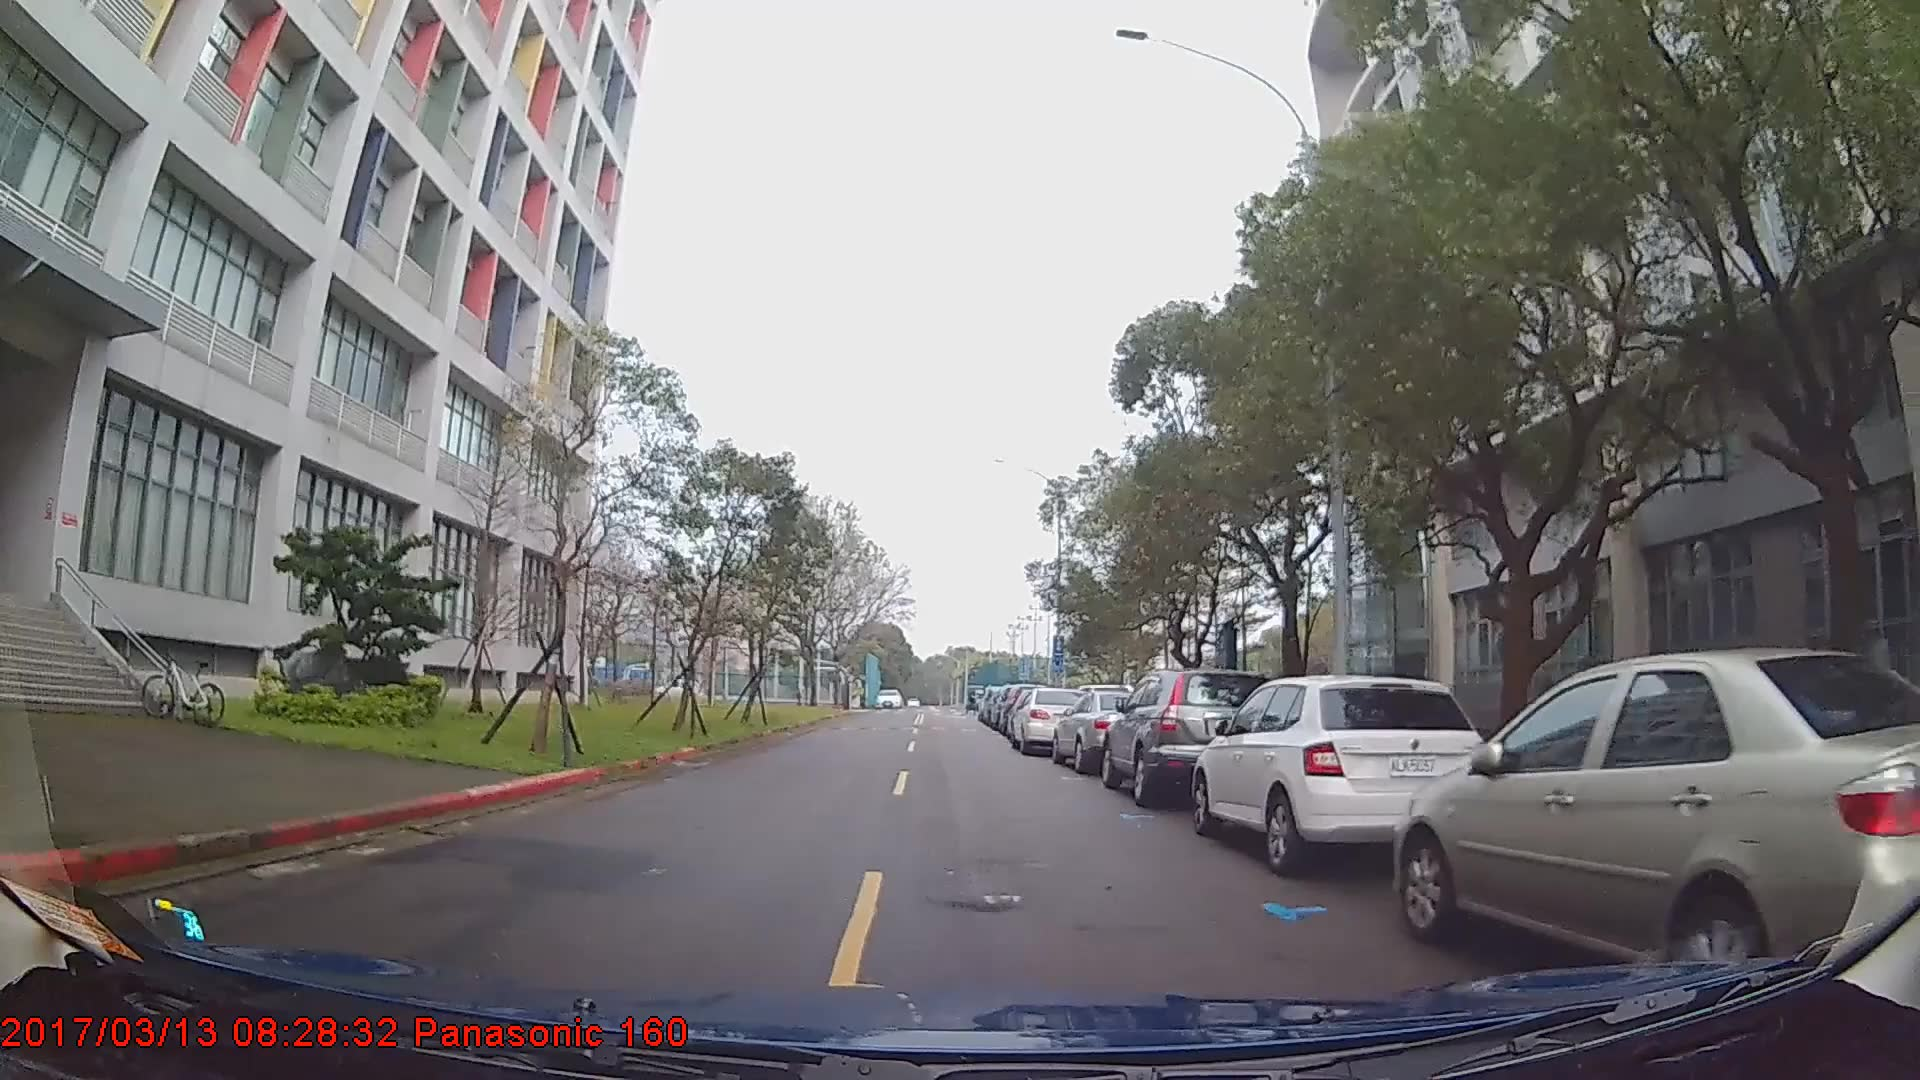vehicle: (1389, 647, 1920, 994), (1192, 673, 1493, 878), (1098, 666, 1283, 807), (1050, 686, 1154, 771), (1010, 686, 1091, 756)
